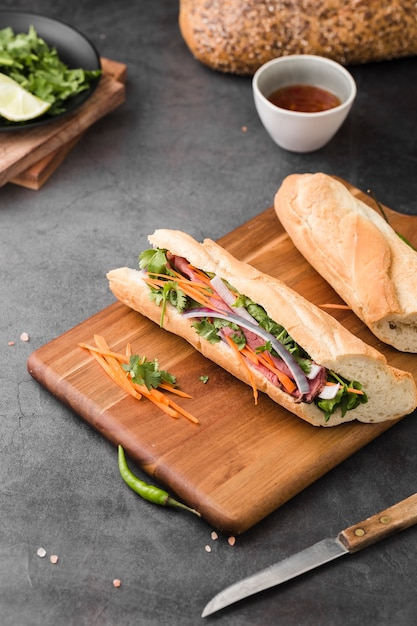knife: (201, 490, 417, 620)
